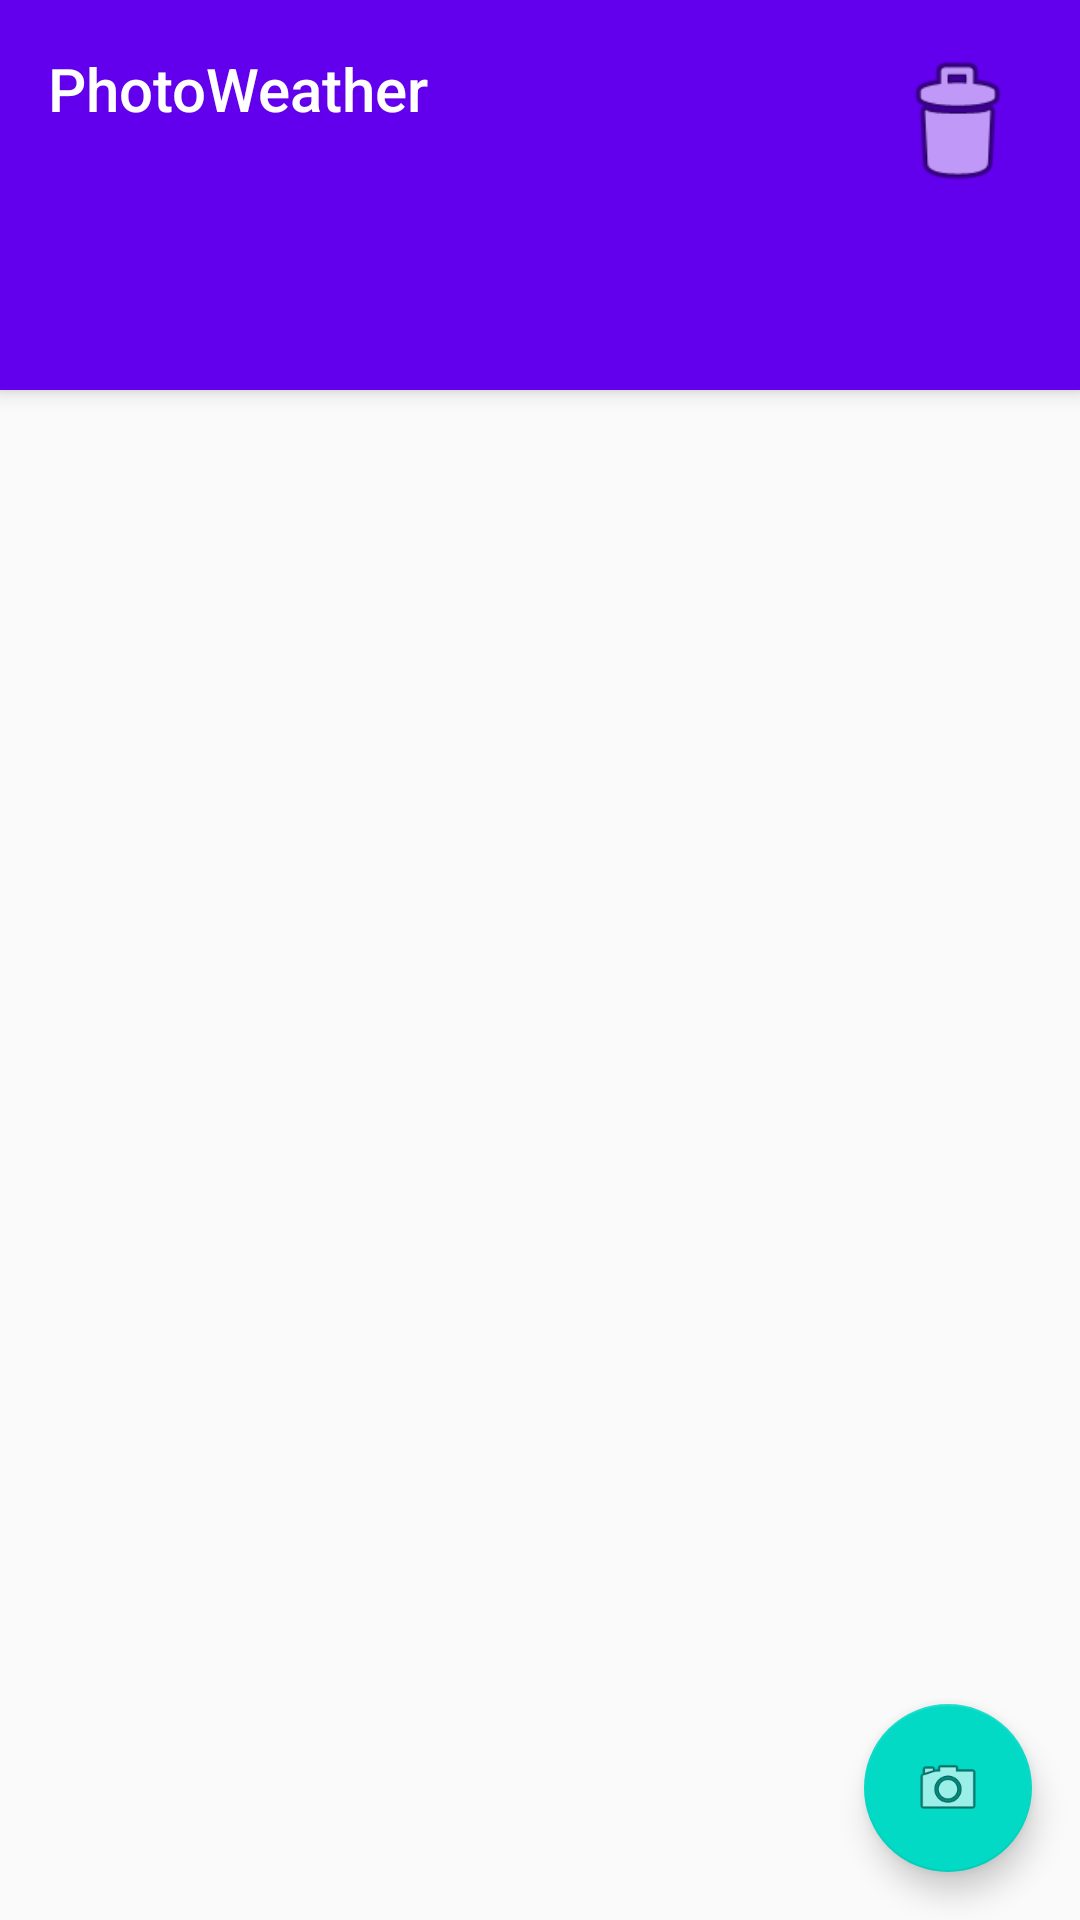

Screen size 1080px×1920px. Icon name, then its center in pixels as [x,y]:
camera: [948,1788]
delete: [957,120]
